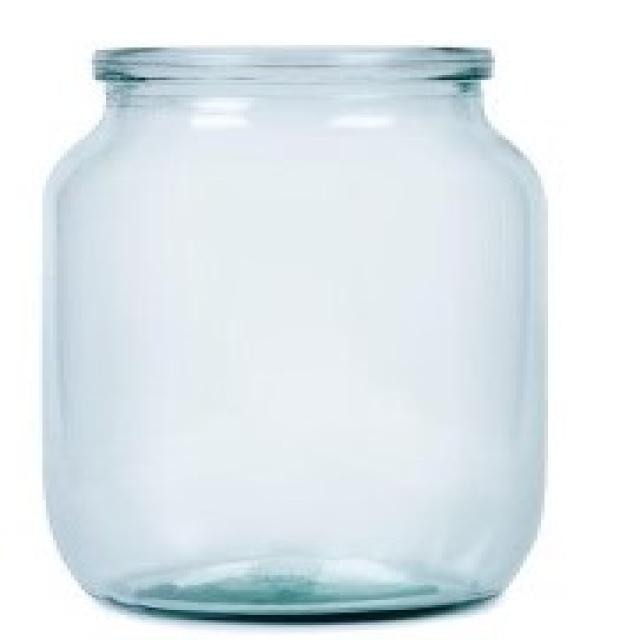electronic: (44, 36, 555, 629)
